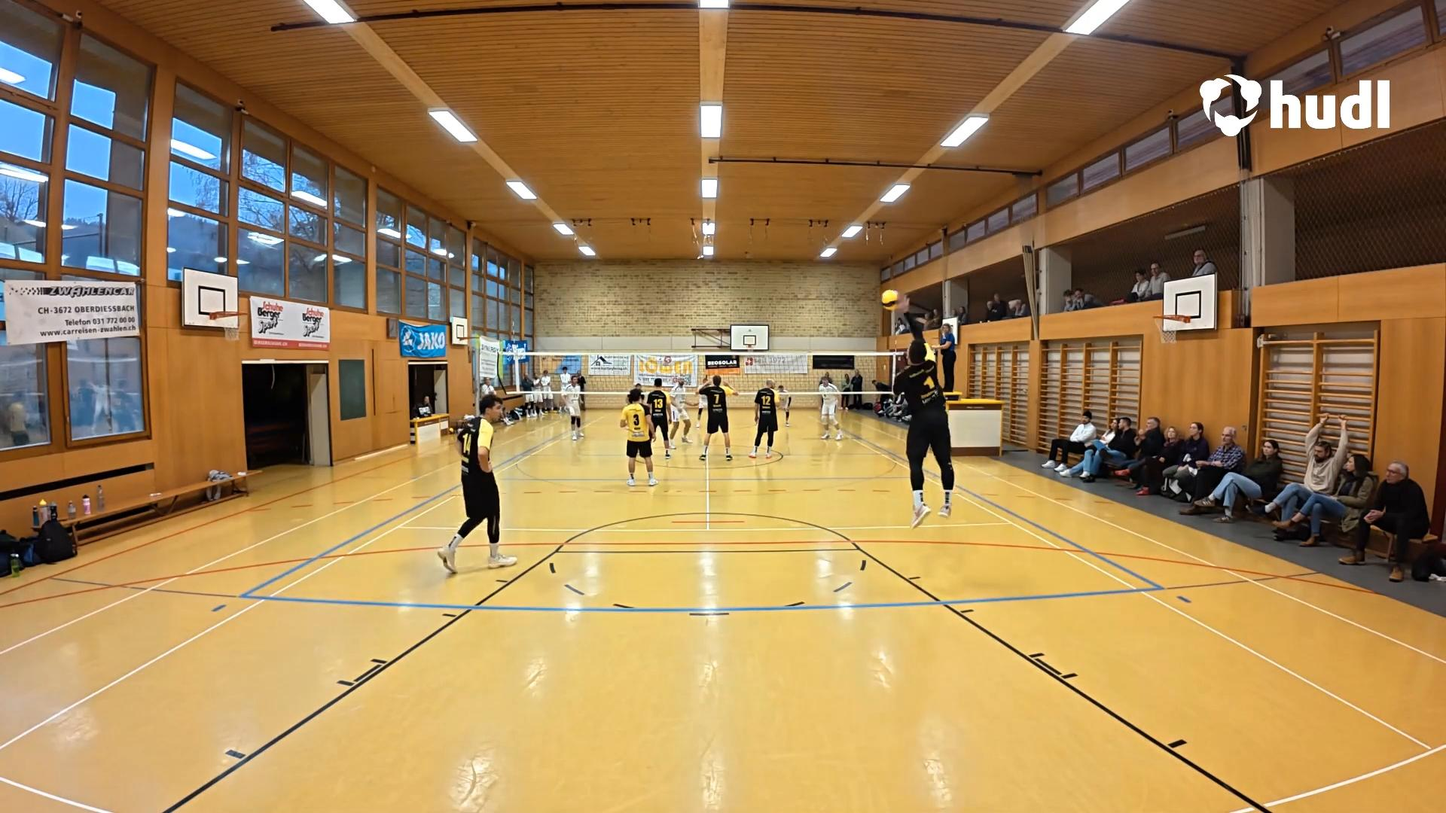battuta: (879, 292, 960, 529)
